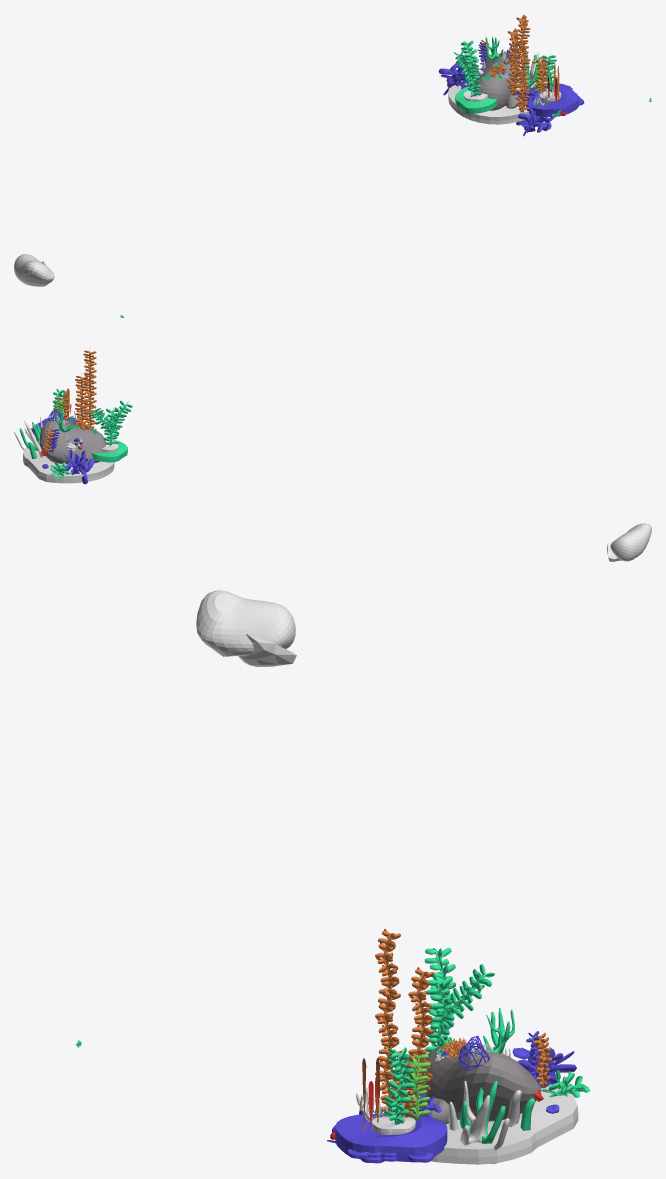
Rendered from recifes4.fbx.
3 renders of one model, top to bottom at view 1: azimuth 30°, elevation 25°; view 2: azimuth 150°, elevation 25°; view 3: azimuth 270°, elevation 25°, orthographic. The views are drawn at different scales.
Visible parts, largest first — view 1: Sphere.008, Cylinder.098, Sphere.001, Cylinder.125, Cylinder.104, Plane.001, Plane.064; view 2: Sphere.008, Cylinder.098, Sphere.001, Plane.064, Cylinder.104; view 3: Sphere.008, Sphere.001, Cylinder.098, Cylinder.125, Cube.021, Plane.009_Plane.018, Cube.024, Plane.009_Plane.017, Plane.009_Plane.015, Icosphere.002, Plane.014_Plane.012, Plane.014_Plane.015 (+4 smaller).
Part boxes in pixels (x1,y1,x2,y2): Sphere.008: [471, 51, 518, 110]; Cylinder.098: [448, 76, 536, 124]; Sphere.001: [14, 254, 54, 286]; Cylinder.125: [524, 83, 578, 116]; Cylinder.104: [455, 86, 497, 113]; Plane.001: [516, 106, 555, 135]; Plane.064: [438, 61, 471, 95]; Sphere.008: [39, 420, 106, 463]; Cylinder.098: [23, 443, 114, 483]; Sphere.001: [610, 523, 651, 561]; Plane.064: [63, 449, 94, 484]; Cylinder.104: [91, 439, 127, 462]; Sphere.008: [419, 1045, 540, 1121]; Sphere.001: [196, 590, 295, 656]; Cylinder.098: [393, 1084, 578, 1164]; Cylinder.125: [335, 1114, 447, 1162]; Cube.021: [448, 1081, 521, 1150]; Plane.009_Plane.018: [384, 1047, 415, 1124]; Cube.024: [459, 1080, 535, 1164]; Plane.009_Plane.017: [426, 975, 454, 1051]; Plane.009_Plane.015: [436, 964, 494, 1029]; Icosphere.002: [238, 633, 296, 666]; Plane.014_Plane.012: [408, 967, 434, 1038]; Plane.014_Plane.015: [375, 928, 400, 999].
Size of the model in its own units: 4734 by 889 by 1837.
